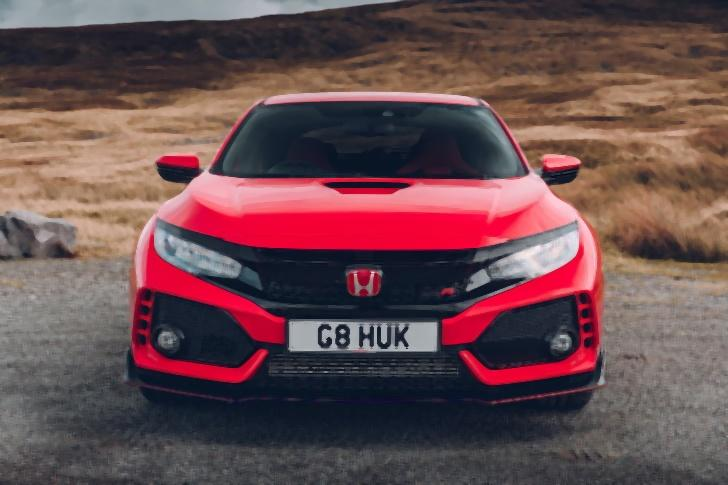Car hood: (154, 170, 580, 255)
Front bumper: (119, 276, 617, 416)
Headlight - -L-: (484, 213, 588, 286)
Headlight - -R-: (146, 210, 248, 287)
Side mirror - -R-: (146, 146, 210, 190), (536, 146, 591, 191)
